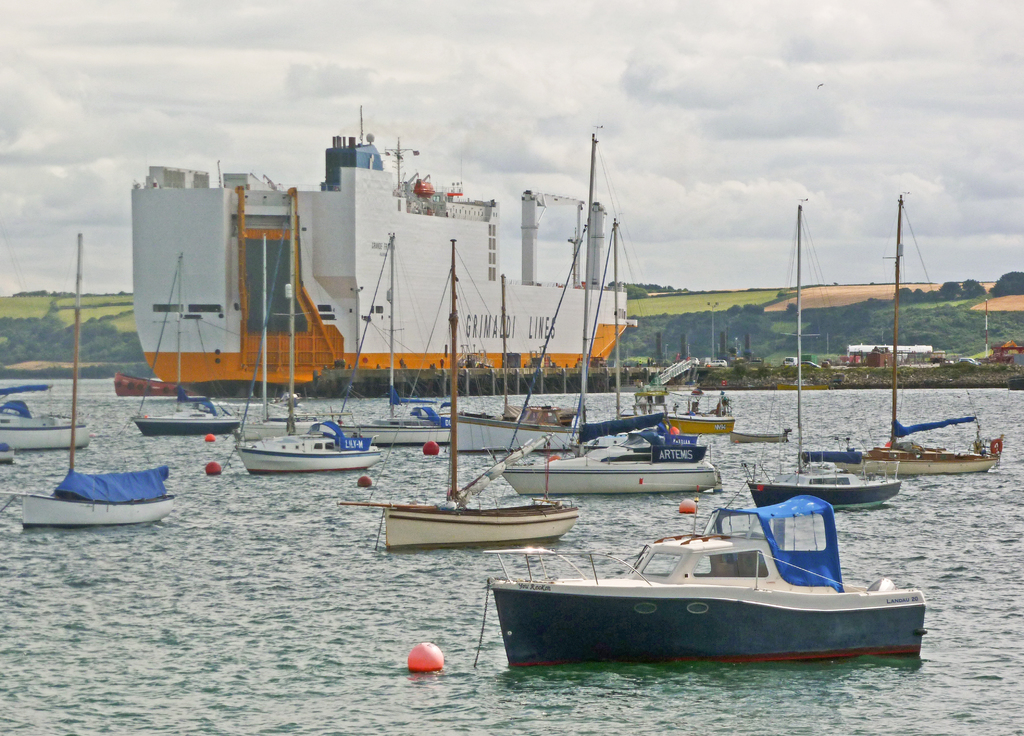boat: (104, 100, 633, 399), (475, 489, 939, 695), (11, 204, 187, 535), (222, 174, 384, 485), (832, 172, 992, 483), (496, 402, 733, 500), (435, 357, 597, 462), (734, 447, 912, 516), (132, 367, 243, 451), (333, 385, 461, 449)
